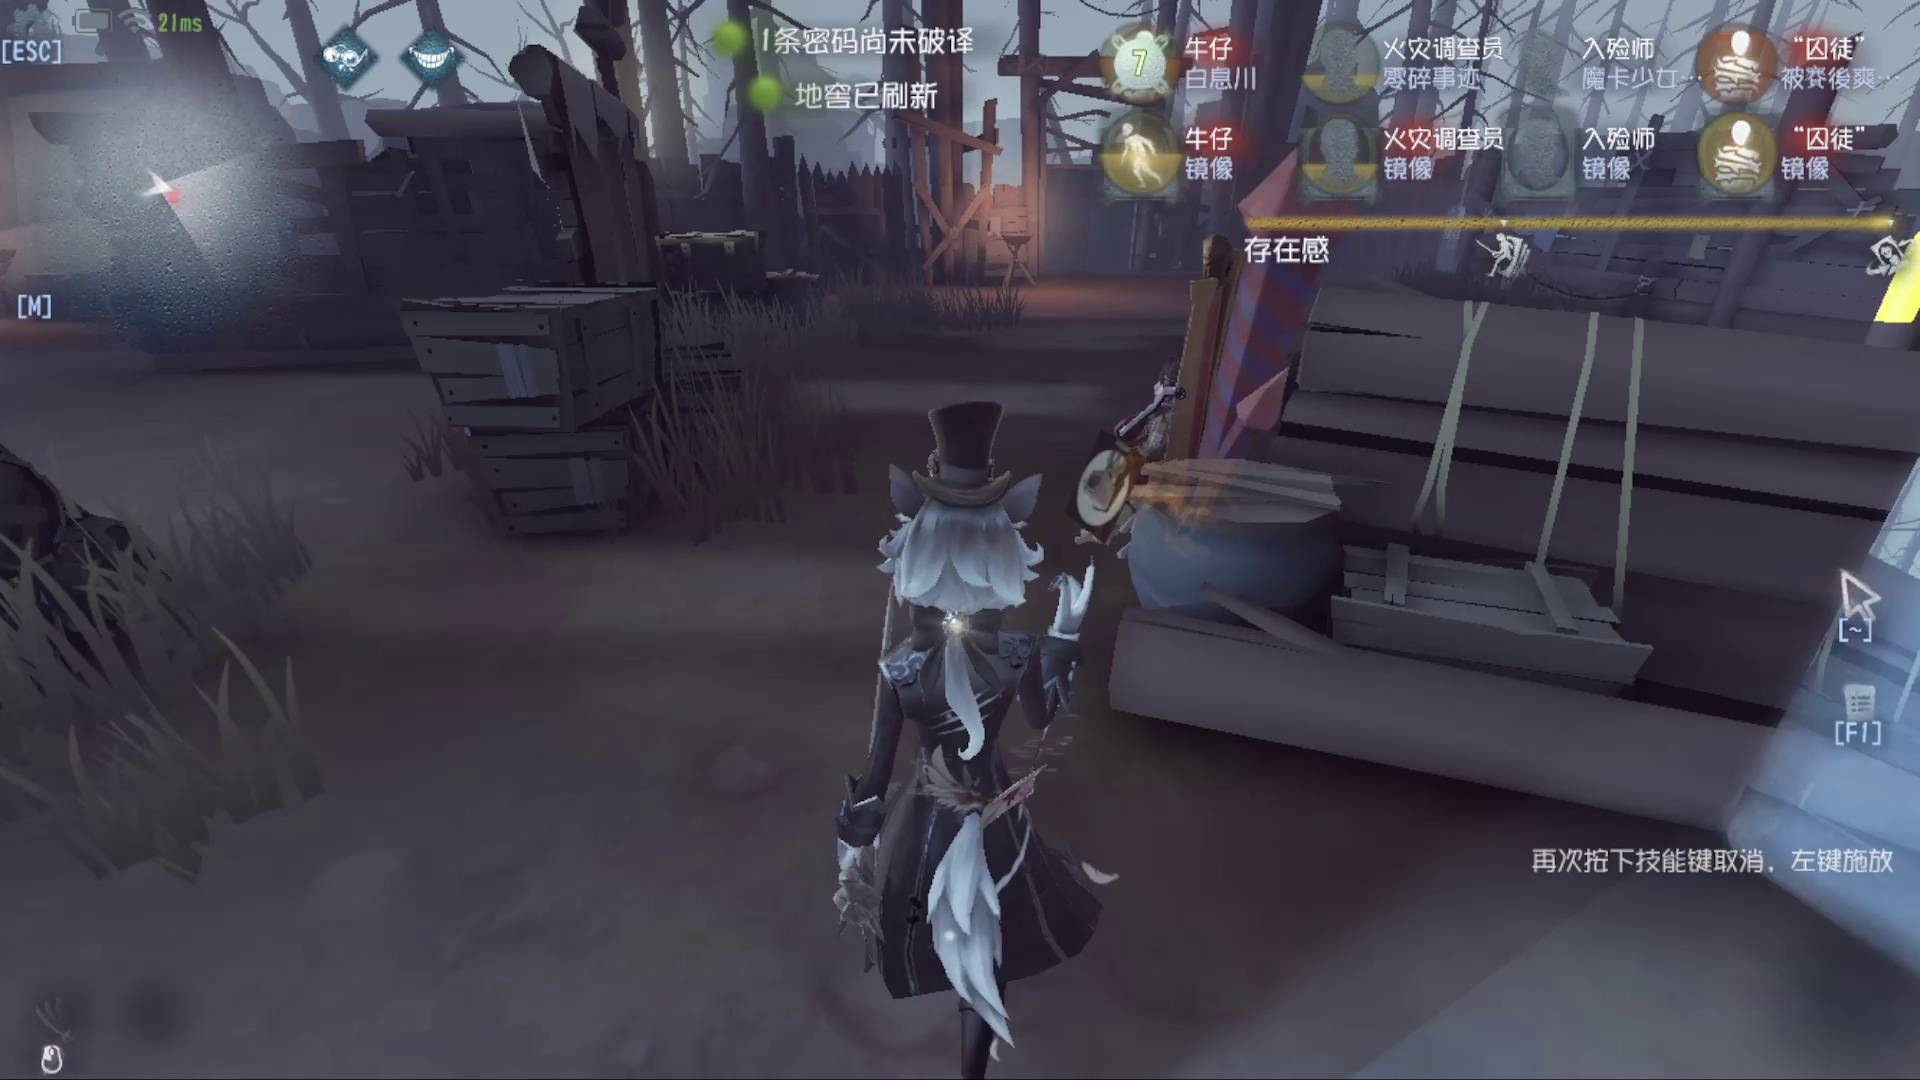狂欢之椅: (1102, 164, 1353, 547)
